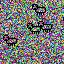sheep: (32, 3, 46, 16), (27, 22, 41, 34), (38, 21, 53, 32), (2, 35, 17, 46)
